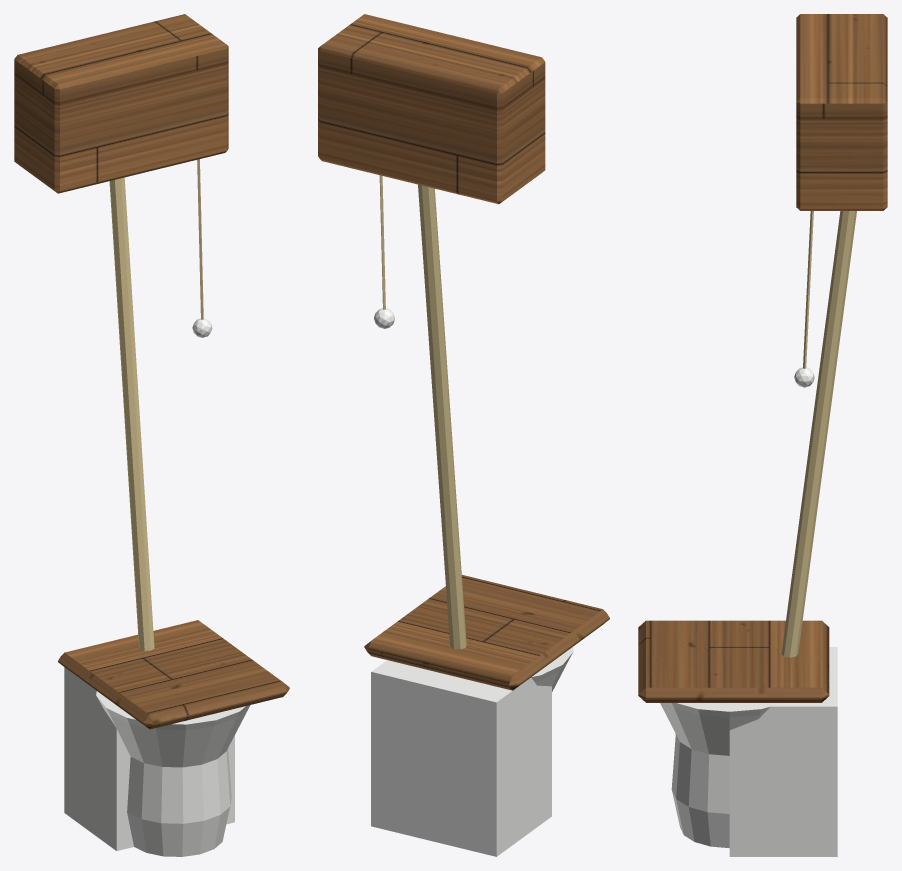
File: toilet.glb
3 renders of one model, left to right at view 1: azimuth 30°, elevation 25°; view 2: azimuth 150°, elevation 25°; view 3: azimuth 270°, elevation 25°, orthographic. The views are drawn at different scales.
Parts seen in each view (by area): view 1: toilet_oak, toilet_porcelain, toilet_brass; view 2: toilet_oak, toilet_porcelain, toilet_brass; view 3: toilet_oak, toilet_porcelain, toilet_brass.
Boxes of the visible parts, box(x1,y1,x2,y2) form: toilet_oak: box(14, 14, 289, 729); toilet_porcelain: box(64, 318, 250, 856); toilet_brass: box(109, 159, 203, 650); toilet_oak: box(318, 14, 609, 690); toilet_porcelain: box(371, 308, 573, 856); toilet_brass: box(379, 175, 466, 649); toilet_oak: box(638, 14, 887, 702); toilet_porcelain: box(660, 367, 837, 856); toilet_brass: box(781, 211, 856, 657).
Bounding box in the file's own units: 0.5 × 2.05 × 0.6.
3 materials, 1 textured.
